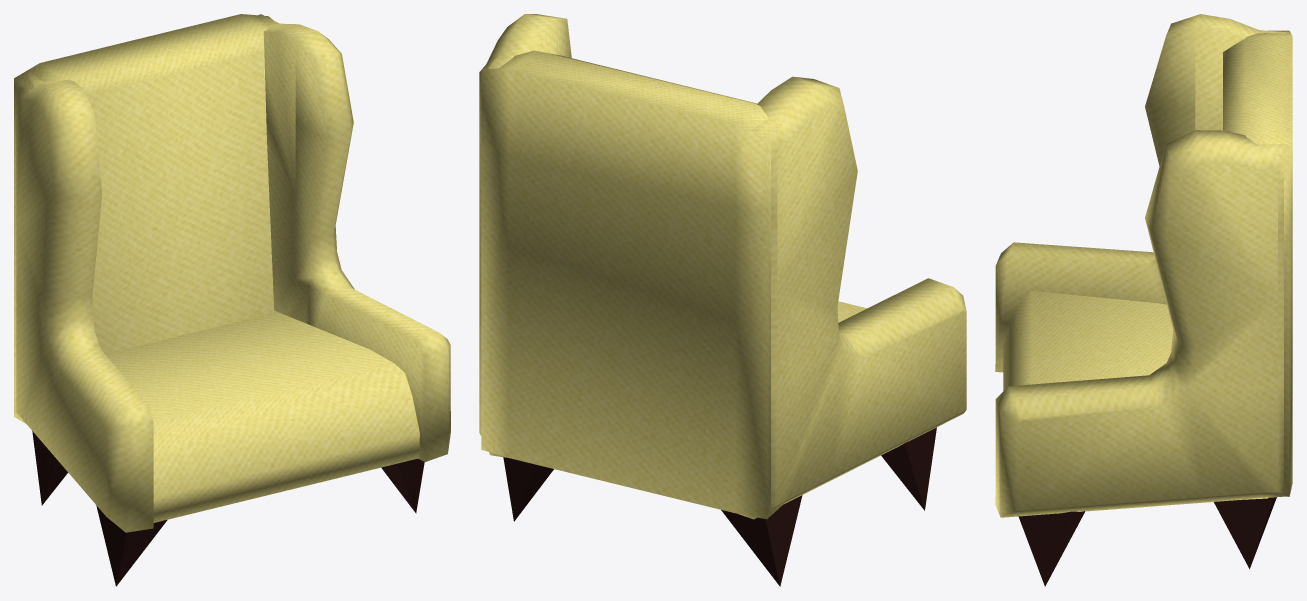
The model's file is Winged_Armchair_I.FBX.
3 renders of one model, left to right at view 1: azimuth 30°, elevation 25°; view 2: azimuth 150°, elevation 25°; view 3: azimuth 270°, elevation 25°, orthographic. The views are drawn at different scales.
Visible parts, largest first — view 1: Winged_Armchair; view 2: Winged_Armchair; view 3: Winged_Armchair.
Boxes of the visible parts, box(x1,y1,x2,y2) form: Winged_Armchair: box(14, 14, 450, 586); Winged_Armchair: box(479, 14, 966, 586); Winged_Armchair: box(995, 14, 1292, 586).
Bounding box in the file's own units: 174 × 208 × 129.
